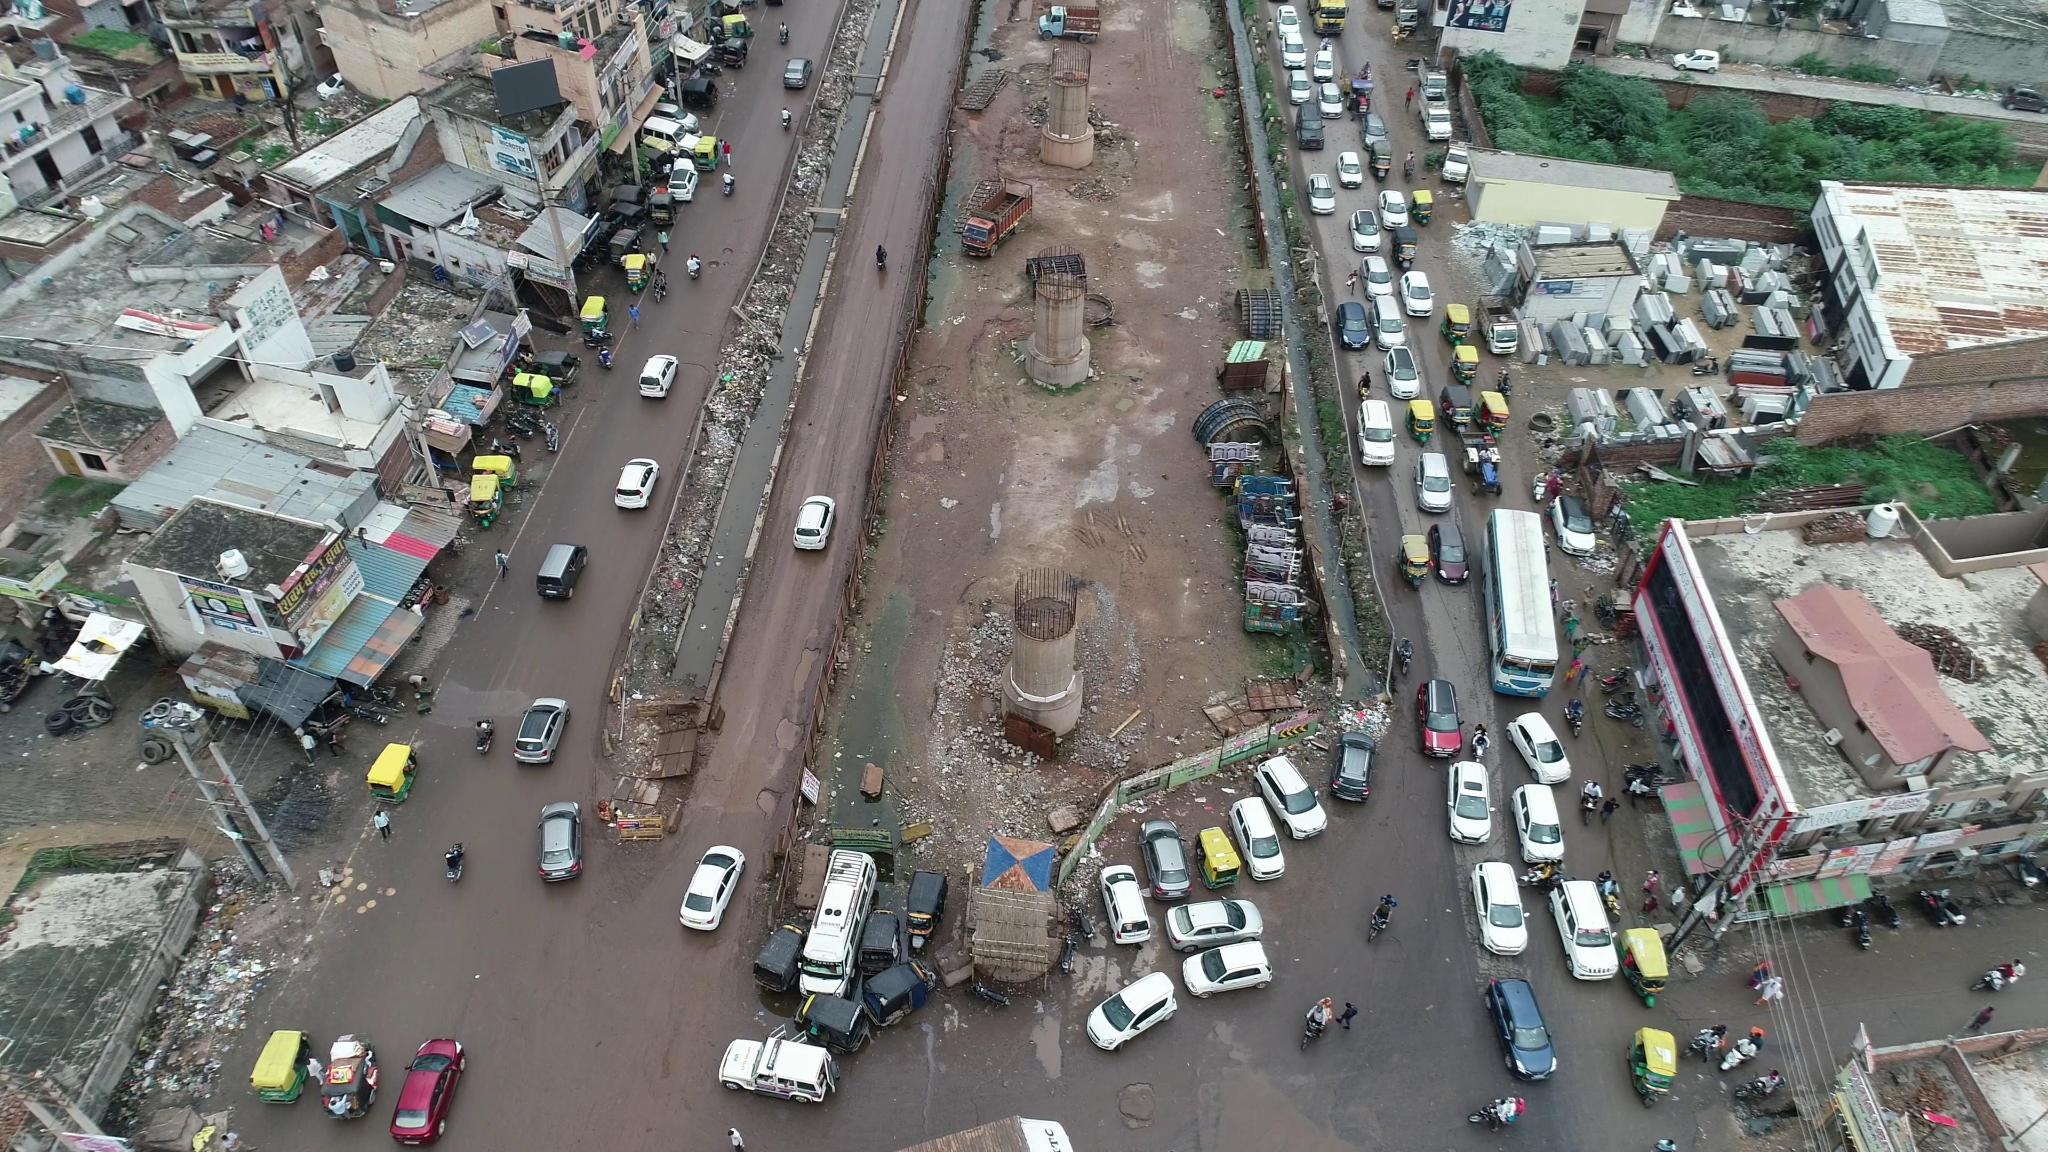Potholes: (698, 233, 753, 273)
